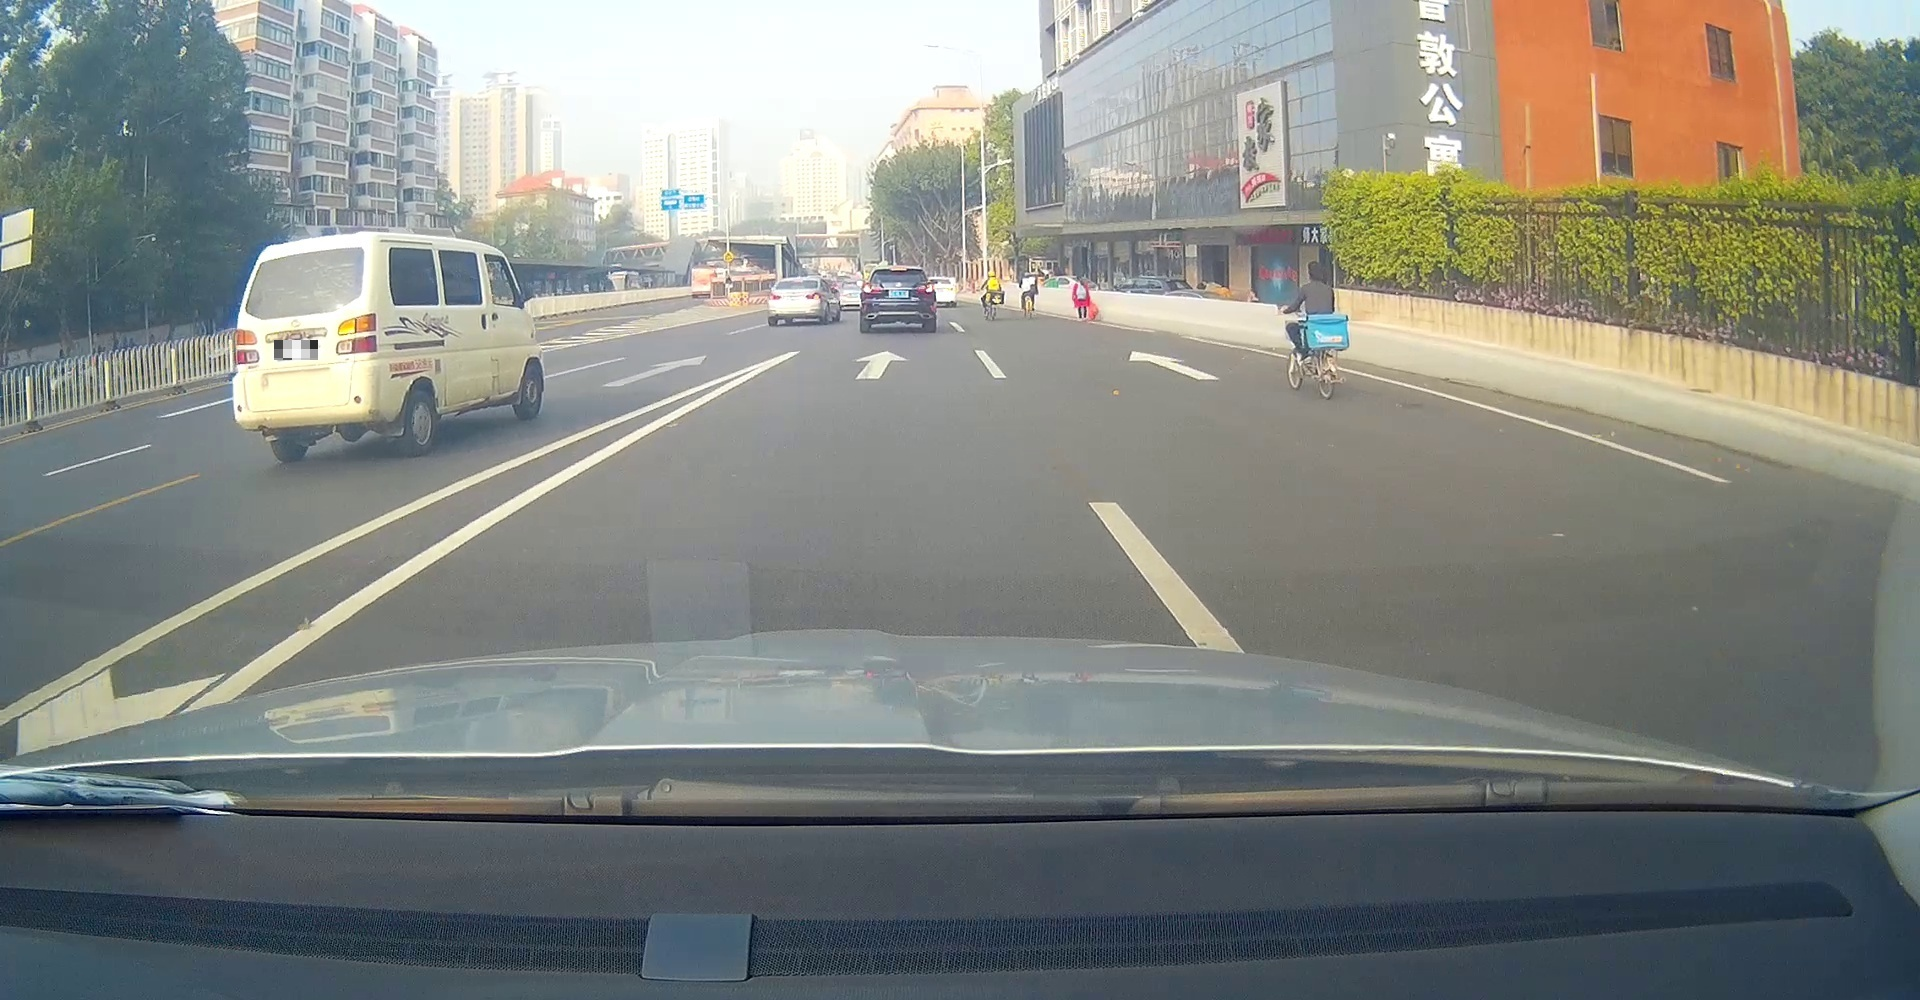L_light: (234, 329, 260, 365), (862, 283, 881, 294), (768, 291, 781, 299)
R_light: (337, 312, 378, 355), (917, 284, 935, 293), (806, 292, 822, 299), (297, 253, 317, 258)
T_light: (891, 268, 905, 272), (794, 280, 804, 282)
day-brake: (858, 265, 937, 332), (766, 277, 824, 327)
day-no: (230, 230, 387, 462)
plate_1: (274, 340, 317, 360)
